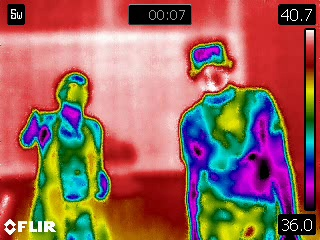human: (176, 34, 301, 240), (19, 66, 112, 240)
